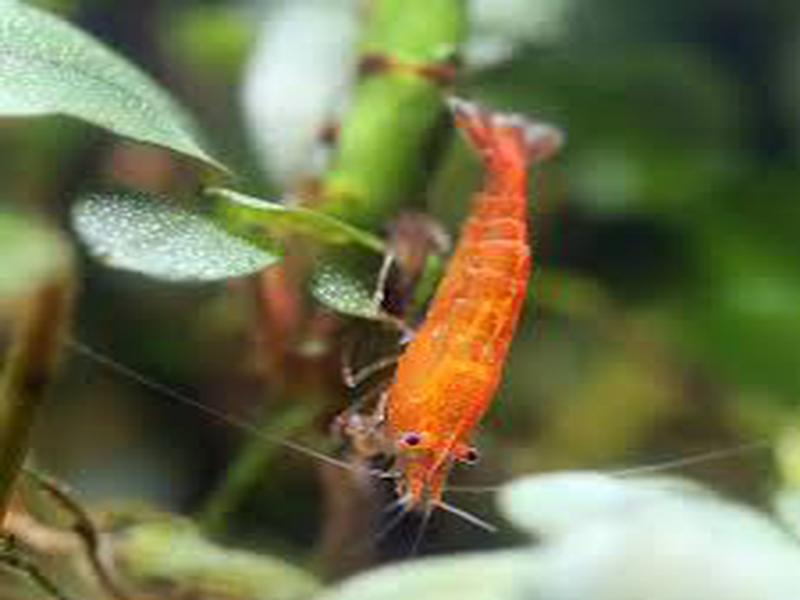shrimp: (380, 97, 564, 541)
